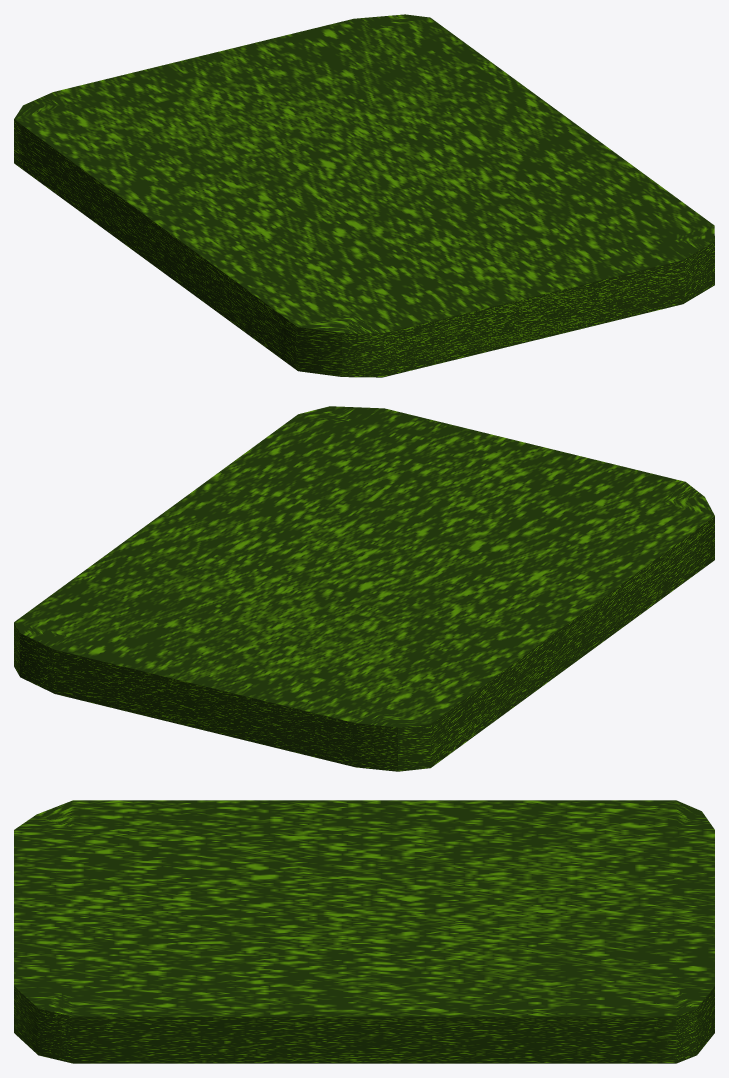
Rendered from platform1.fbx.
3 renders of one model, top to bottom at view 1: azimuth 30°, elevation 25°; view 2: azimuth 150°, elevation 25°; view 3: azimuth 270°, elevation 25°, orthographic. The views are drawn at different scales.
Visible parts, largest first — view 1: pCube5; view 2: pCube5; view 3: pCube5.
Part boxes in pixels (bbox=[...]): pCube5: bbox=[14, 14, 714, 377]; pCube5: bbox=[14, 406, 714, 771]; pCube5: bbox=[14, 800, 714, 1063].
Size of the model in its own units: 2055 by 208 by 2817.
1 material, 1 textured.
